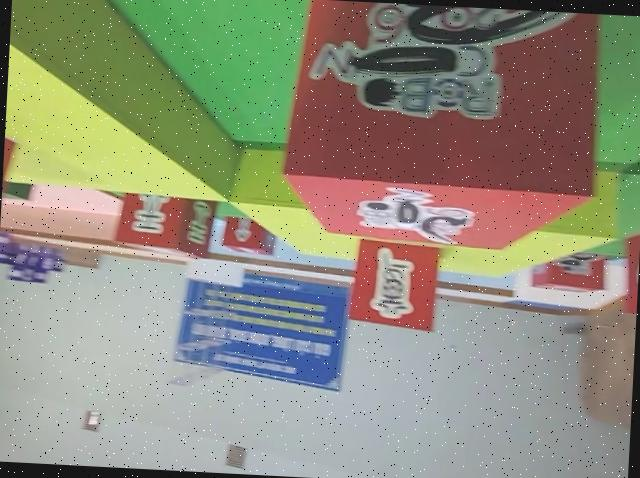R1: (280, 0, 603, 256), (530, 245, 609, 298)
R2 Fake: (346, 232, 442, 336)
R2 Real: (112, 190, 218, 263), (219, 208, 280, 260)
